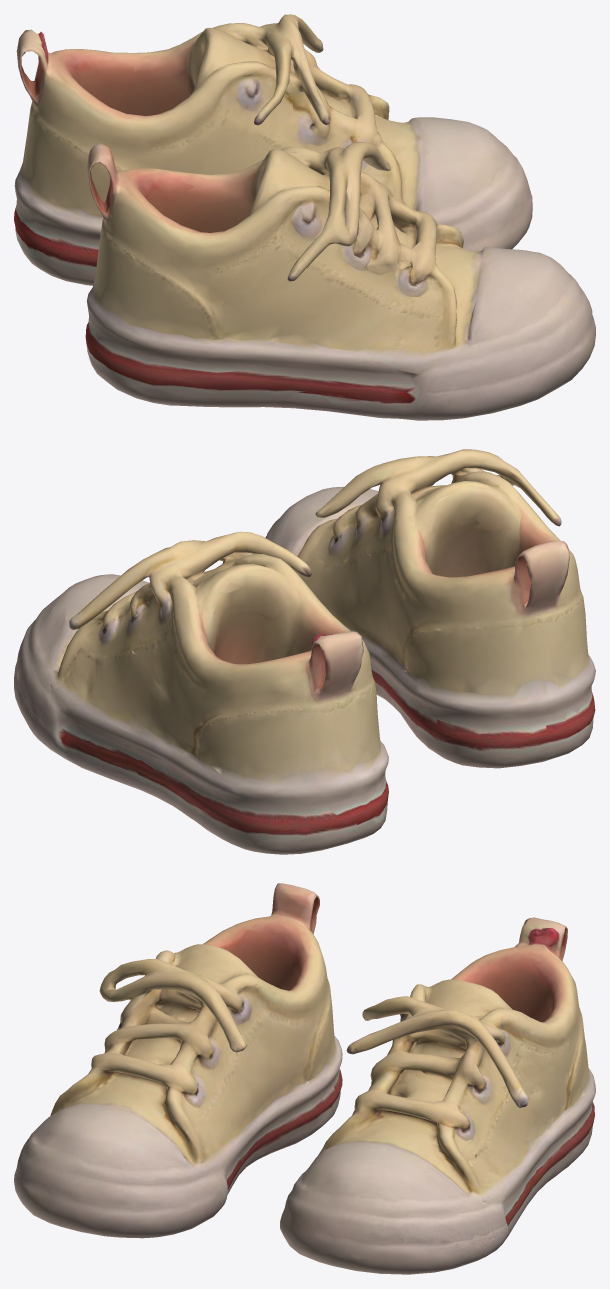
The model's file is hall-little-shoes.glb.
3 renders of one model, top to bottom at view 1: azimuth 30°, elevation 25°; view 2: azimuth 150°, elevation 25°; view 3: azimuth 270°, elevation 25°, orthographic. The views are drawn at different scales.
Parts seen in each view (by area): view 1: tripo_node_63357630-d282-4f83-a4b8-e4ee181a157c; view 2: tripo_node_63357630-d282-4f83-a4b8-e4ee181a157c; view 3: tripo_node_63357630-d282-4f83-a4b8-e4ee181a157c.
Boxes of the visible parts, bbox=[...] form: tripo_node_63357630-d282-4f83-a4b8-e4ee181a157c: bbox=[14, 14, 595, 420]; tripo_node_63357630-d282-4f83-a4b8-e4ee181a157c: bbox=[14, 449, 595, 854]; tripo_node_63357630-d282-4f83-a4b8-e4ee181a157c: bbox=[14, 883, 595, 1274].
Size of the model in its own units: 0.8497 by 0.3783 by 0.9751.
Materials: 1 (1 with a texture image).
